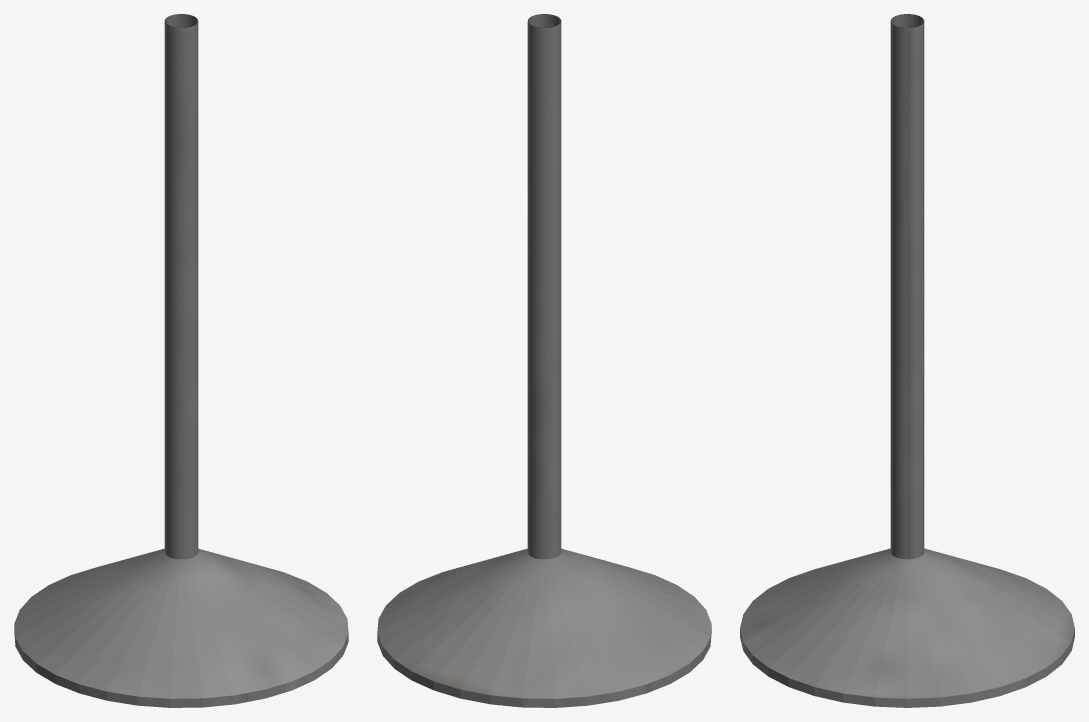
Rendered from light.fbx.
The picture shows the model from 3 angles, left to right: view 1: azimuth 30°, elevation 25°; view 2: azimuth 150°, elevation 25°; view 3: azimuth 270°, elevation 25°; orthographic projection.
Visible parts, largest first — view 1: light; view 2: light; view 3: light.
Boxes of the visible parts, box(x1,y1,x2,y2) form: light: box(14, 14, 348, 707); light: box(377, 14, 711, 707); light: box(740, 14, 1074, 707).
Bounding box in the file's own units: 50 × 101 × 50.
